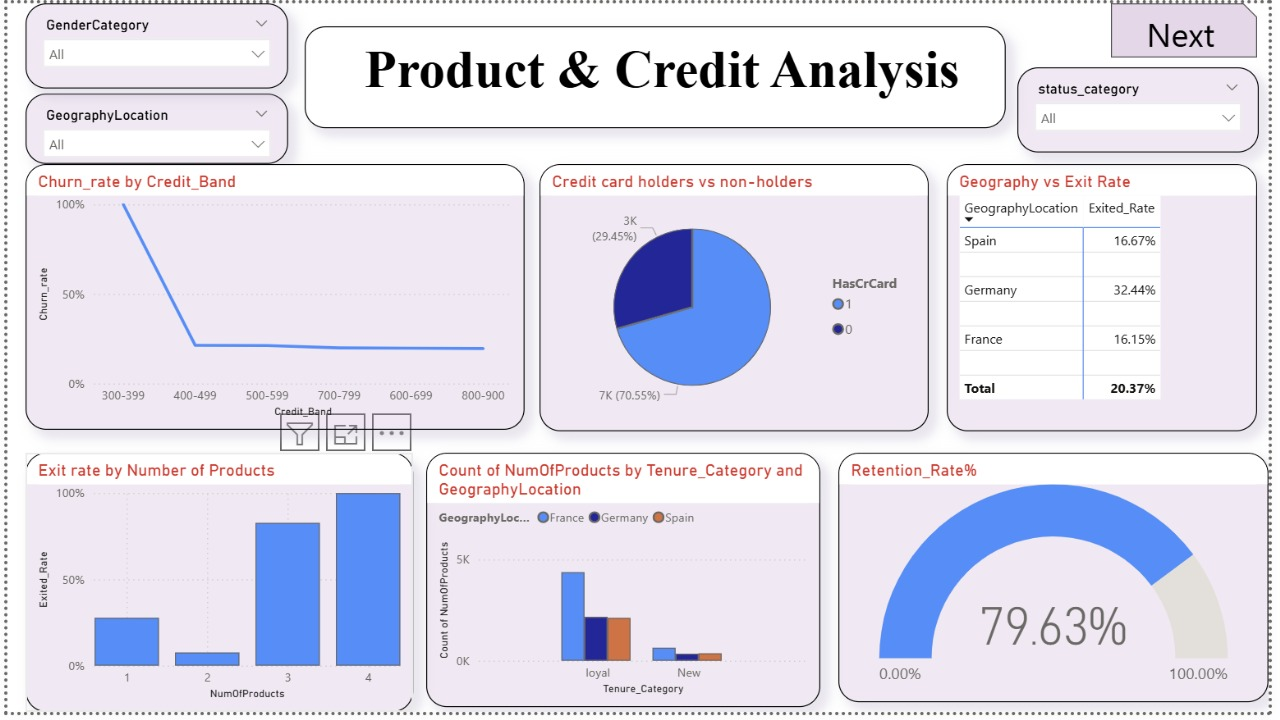

What the dashboard file says about the page in this screenshot:
{"tool":"powerbi","page":{"name":"Page 3","canvas":[1280,720],"ordinal":2},"visuals":[{"type":"pieChart","title":"Credit card holders vs non-holders","fields":{"Y":["ActiveCustomer.Customer_count"],"Category":["Bank_Churn.HasCrCard"]},"box":[540,163.3,395,271.7],"z":0},{"type":"columnChart","title":" Exit rate by Number of Products","fields":{"Y":["Bank_Churn.Exited_Rate"],"Category":["Bank_Churn.NumOfProducts"]},"box":[18.3,456.7,393.3,263.3],"z":1000},{"type":"pivotTable","title":"Geography vs Exit Rate","fields":{"Rows":["Geography.GeographyLocation"],"Values":["Bank_Churn.Exited_Rate"]},"box":[953.3,163.3,315,271.7],"z":2000},{"type":"gauge","title":"Retention_Rate%","fields":{"Y":["Bank_Churn.Retention_Rate"]},"box":[843.3,456.7,436.7,253.3],"z":3000},{"type":"textbox","box":[301.7,23.3,711.7,103.3],"z":4000},{"type":"shape","box":[1120,0,148.3,55],"z":5000},{"type":"slicer","fields":{"Values":["Geography.GeographyLocation"]},"box":[18.3,91.7,266.7,71.7],"z":6000},{"type":"slicer","fields":{"Values":["Gender.GenderCategory"]},"box":[18.3,0,266.7,86.7],"z":7000},{"type":"slicer","fields":{"Values":["Bank_Churn.status_category"]},"box":[1025,65,245,86.7],"z":8000},{"type":"clusteredColumnChart","fields":{"Category":["Bank_Churn.Tenure_Category"],"Y":["CountNonNull(Bank_Churn.NumOfProducts)"],"Series":["Geography.GeographyLocation"]},"box":[425,456.7,400,258.3],"z":9000},{"type":"lineChart","fields":{"Category":["Bank_Churn.Credit_Band"],"Y":["Bank_Churn.Churn_rate"]},"box":[18.3,163.3,506.7,270],"z":10000}]}

Visuals, with their boxes in screenshot pixels (x1, y1, x2, y2), scaled from the page's 1280x720 canvas onto the 1280x720 screenshot:
"Credit card holders vs non-holders" pieChart: 540:163:935:435
" Exit rate by Number of Products" columnChart: 18:457:412:719
"Geography vs Exit Rate" pivotTable: 953:163:1268:435
"Retention_Rate%" gauge: 843:457:1279:710
textbox: 302:23:1013:127
shape: 1120:0:1268:55
slicer - Geography.GeographyLocation: 18:92:285:163
slicer - Gender.GenderCategory: 18:0:285:87
slicer - Bank_Churn.status_category: 1025:65:1270:152
clusteredColumnChart - Bank_Churn.Tenure_Category x CountNonNull(Bank_Churn.NumOfProducts): 425:457:825:715
lineChart - Bank_Churn.Credit_Band x Bank_Churn.Churn_rate: 18:163:525:433
